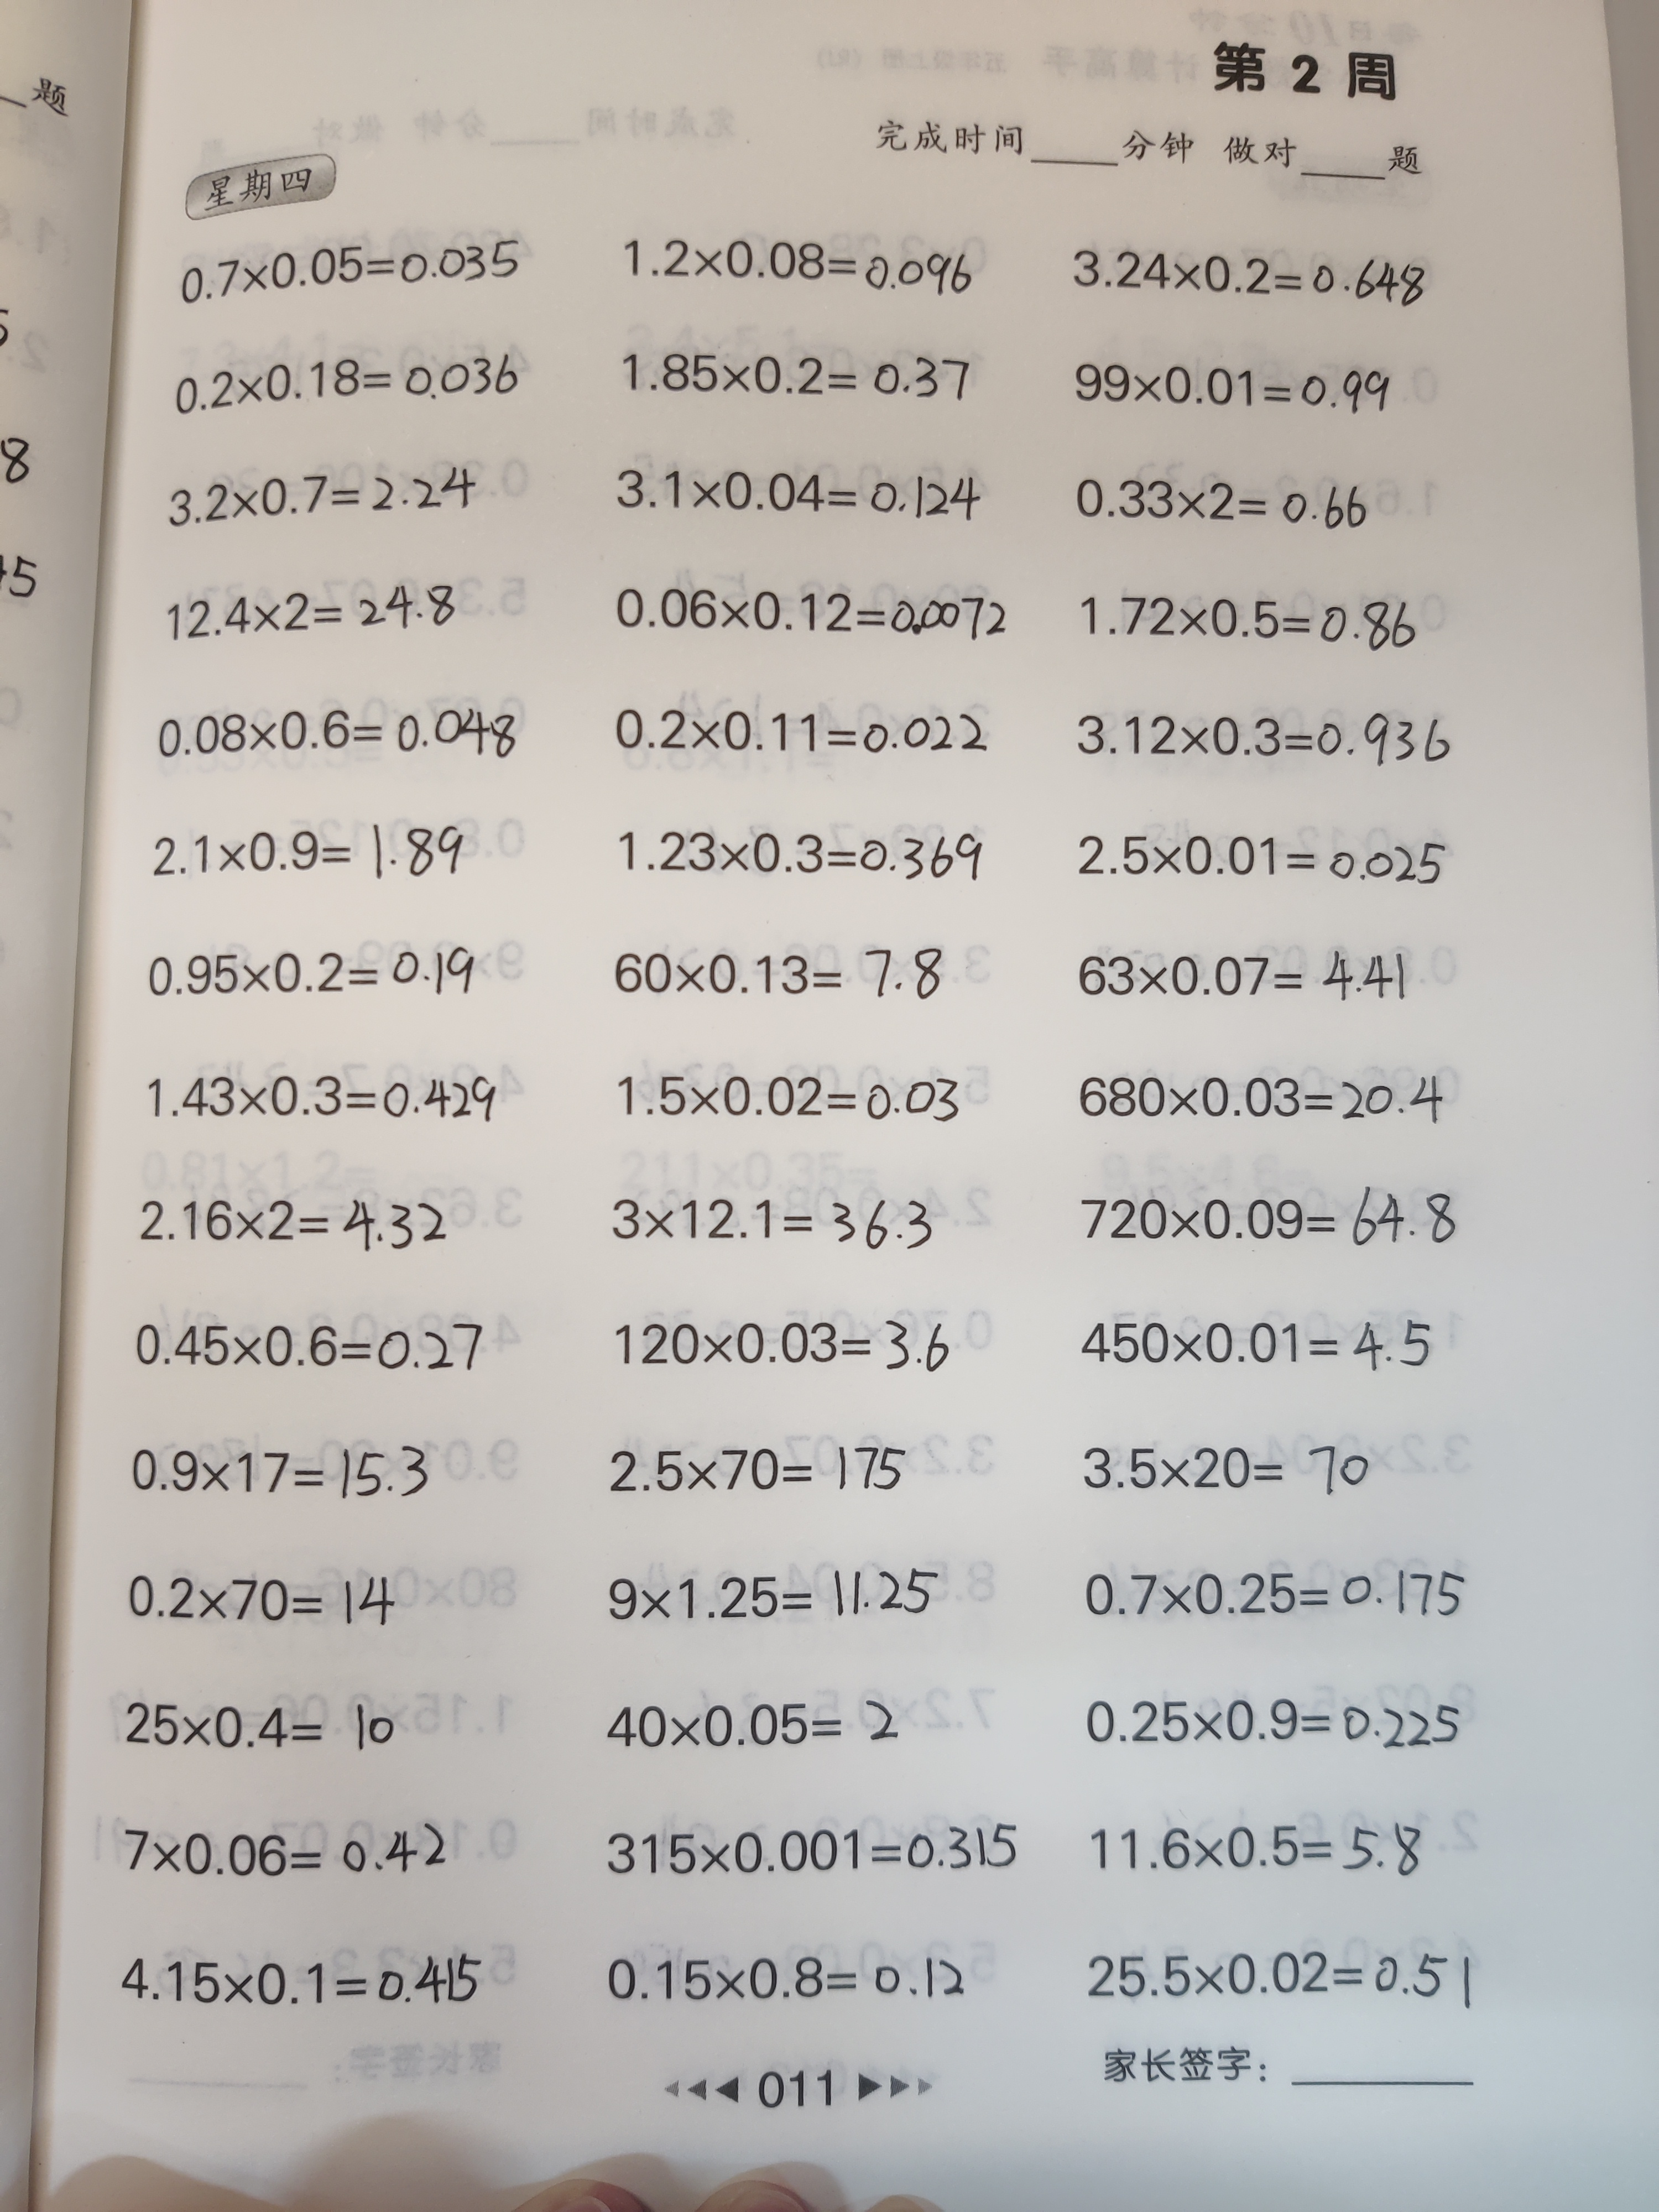equation: (1059, 1159, 1475, 1281), (597, 1806, 1037, 1907), (1073, 1541, 1482, 1647), (1068, 216, 1439, 330), (604, 798, 999, 904), (1042, 1041, 1460, 1137), (1061, 815, 1470, 909), (1068, 1681, 1480, 1772), (105, 1936, 499, 2029), (167, 223, 525, 325), (602, 577, 1023, 661), (112, 1306, 506, 1395), (607, 1046, 963, 1144), (131, 687, 518, 776), (1073, 575, 1429, 671), (1073, 697, 1453, 786), (607, 332, 977, 423), (140, 1056, 508, 1147), (607, 930, 956, 1026), (124, 935, 499, 1024), (597, 1416, 912, 1522), (1068, 1413, 1374, 1522), (1076, 1806, 1446, 1895), (612, 223, 989, 310), (109, 1815, 484, 1902), (583, 1945, 979, 2027), (597, 1306, 961, 1395), (590, 1671, 931, 1765), (107, 1556, 415, 1659), (592, 700, 1006, 776), (1059, 935, 1434, 1019), (1076, 1943, 1484, 2020), (1078, 1301, 1451, 1385), (612, 457, 982, 541), (1066, 348, 1405, 437), (1066, 455, 1379, 551), (162, 348, 525, 430), (140, 812, 479, 899), (595, 1185, 948, 1267), (599, 1561, 951, 1642), (124, 1433, 451, 1520), (112, 1181, 444, 1265), (157, 459, 487, 543), (140, 572, 467, 651), (109, 1686, 408, 1770)
